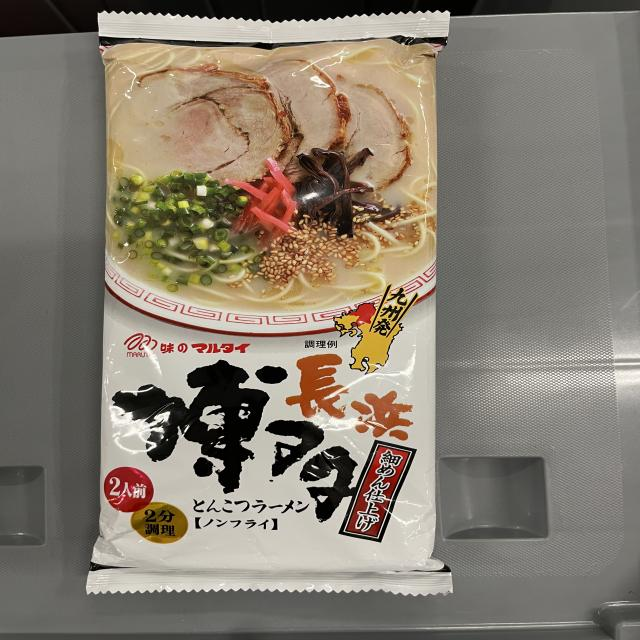object_name: (111, 23, 434, 578)
